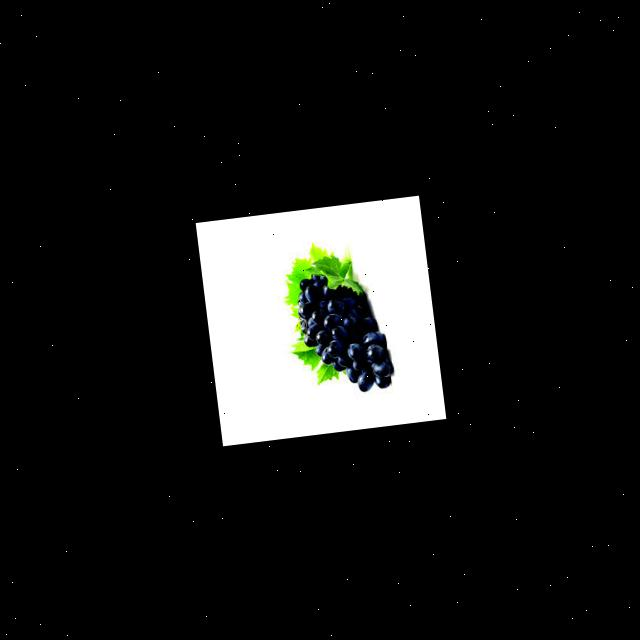grape: (291, 266, 394, 399)
